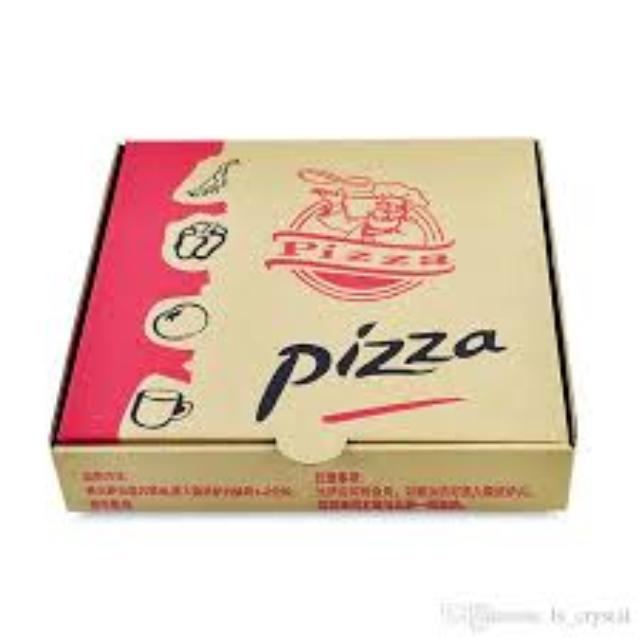cardboard paper: (48, 137, 566, 503)
